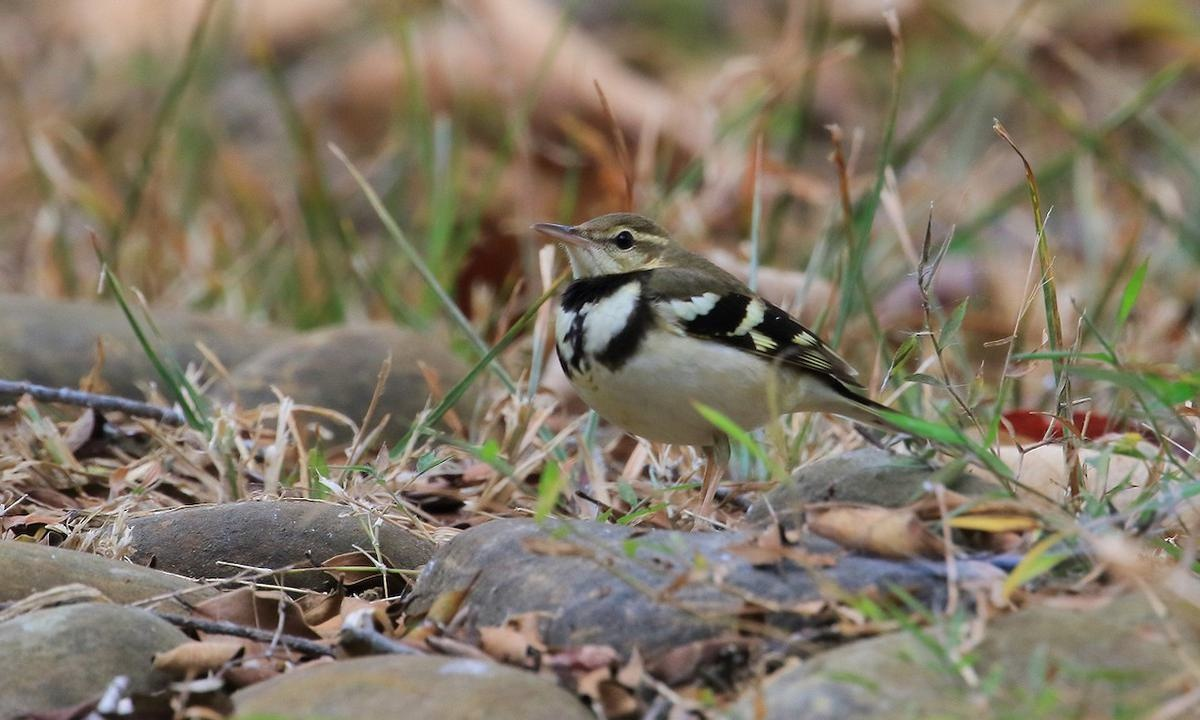wagtail: (539, 175, 913, 525)
